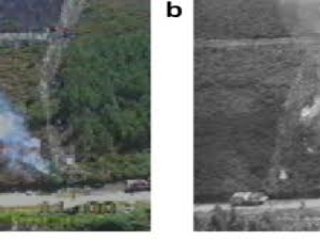smoke: (1, 101, 65, 186), (294, 71, 320, 139)
